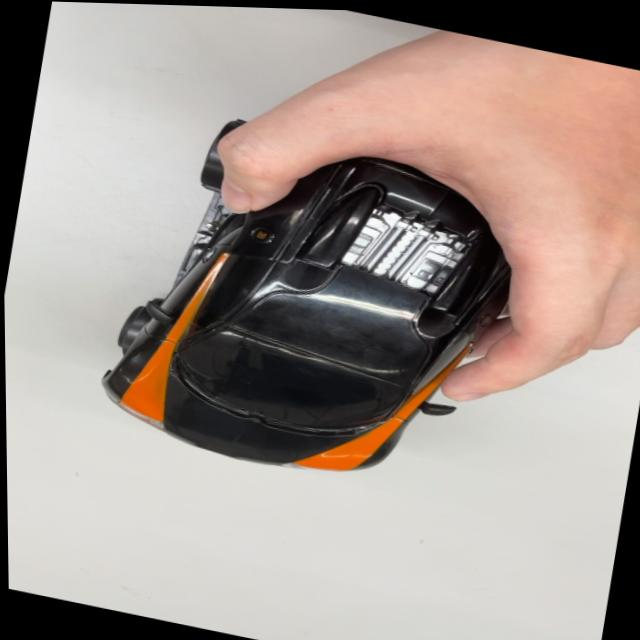vehicle_body: (75, 94, 539, 514)
